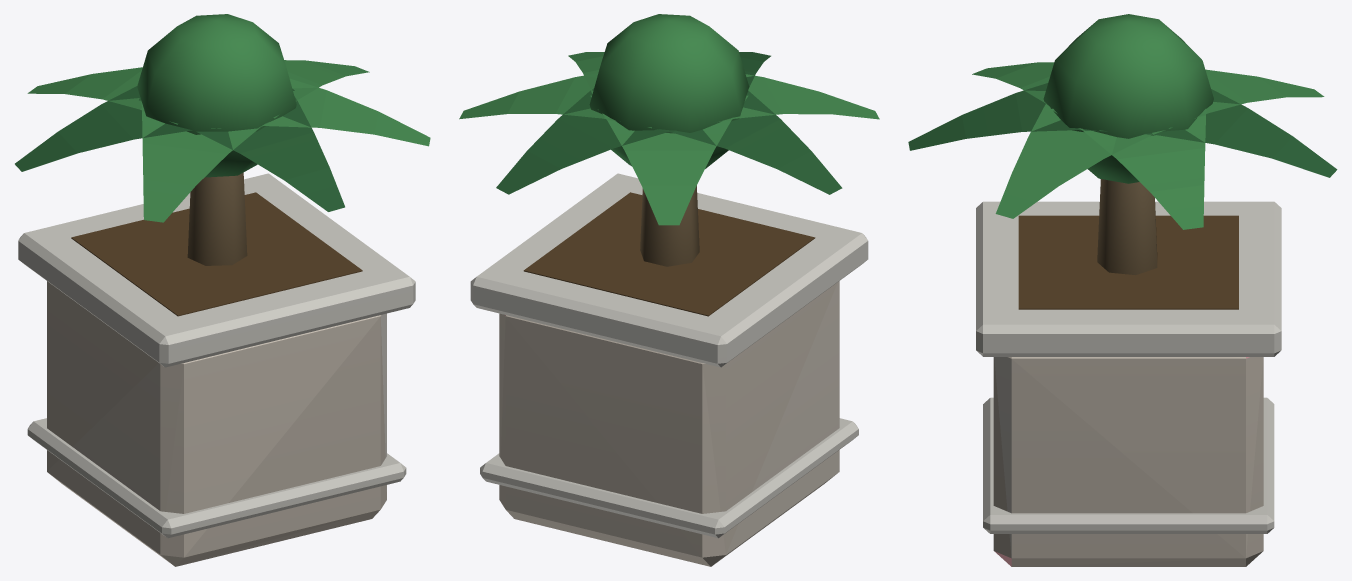
File: potted_palm_planter.glb
The picture shows the model from 3 angles, left to right: view 1: azimuth 30°, elevation 25°; view 2: azimuth 150°, elevation 25°; view 3: azimuth 270°, elevation 25°; orthographic projection. The views are drawn at different scales.
Visible parts, largest first — view 1: potted_palm_planter; view 2: potted_palm_planter; view 3: potted_palm_planter.
Part boxes in pixels (left/top/right/bottom): potted_palm_planter: left=15, top=14, right=430, bottom=566; potted_palm_planter: left=459, top=14, right=879, bottom=566; potted_palm_planter: left=908, top=14, right=1337, bottom=566.
Bounding box in the file's own units: 1.22 × 1.54 × 1.21.
